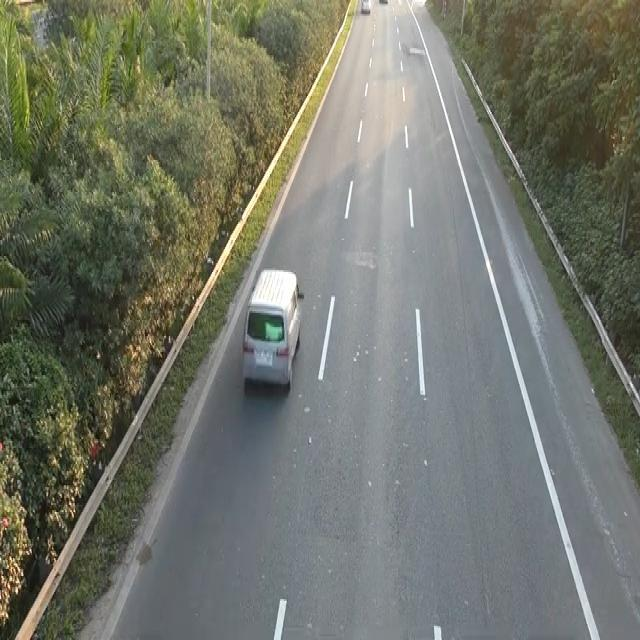lorry: (240, 263, 303, 395)
